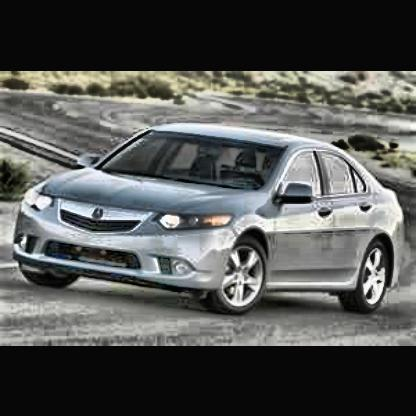Acura TSX Sedan 2012: (14, 121, 407, 320)
